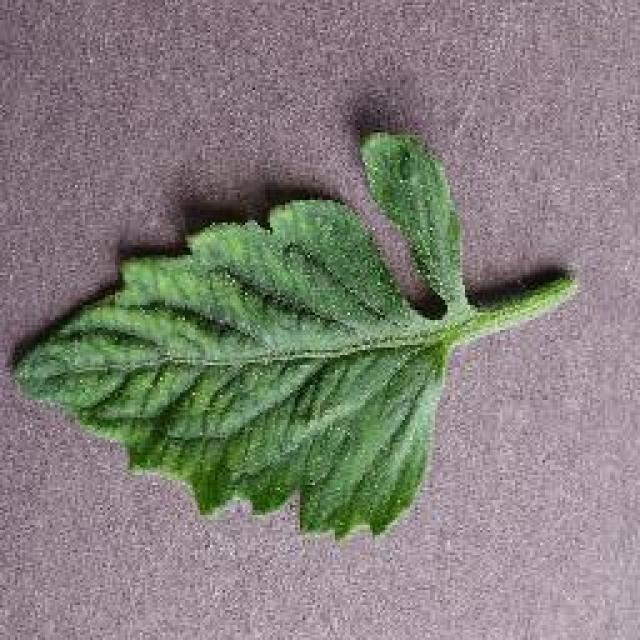Tomato spider mites leaf: (15, 198, 455, 548), (361, 131, 489, 319)
